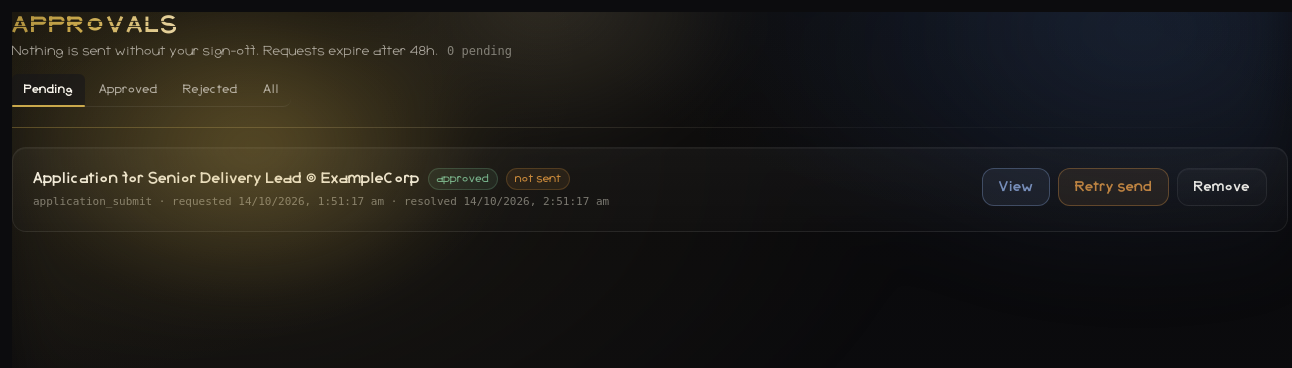
Test: a failed send stays visible and is really retryable (MUST-FIX 2) › a retry that fails again says nothing was sent and keeps the affordance
Step 1. Click the button with test id "retry-send-btn" → (1114, 187), box [1058,168,1169,206]
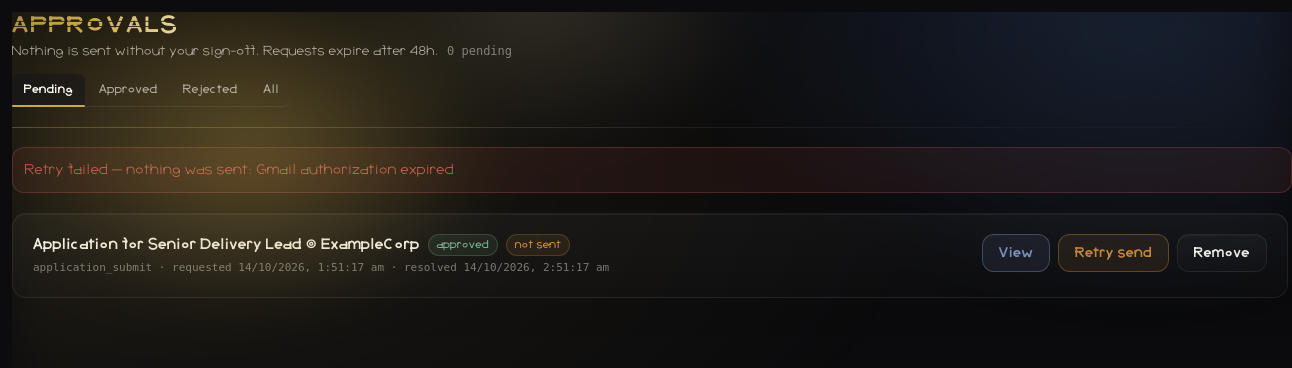
expect the button with test id "retry-send-btn" is shown: met, box [1058,234,1169,272]
expect the message shows "nothing was sent": met, box [25,163,454,177]
expect the message shows "Gmail": met, box [25,163,454,177]
